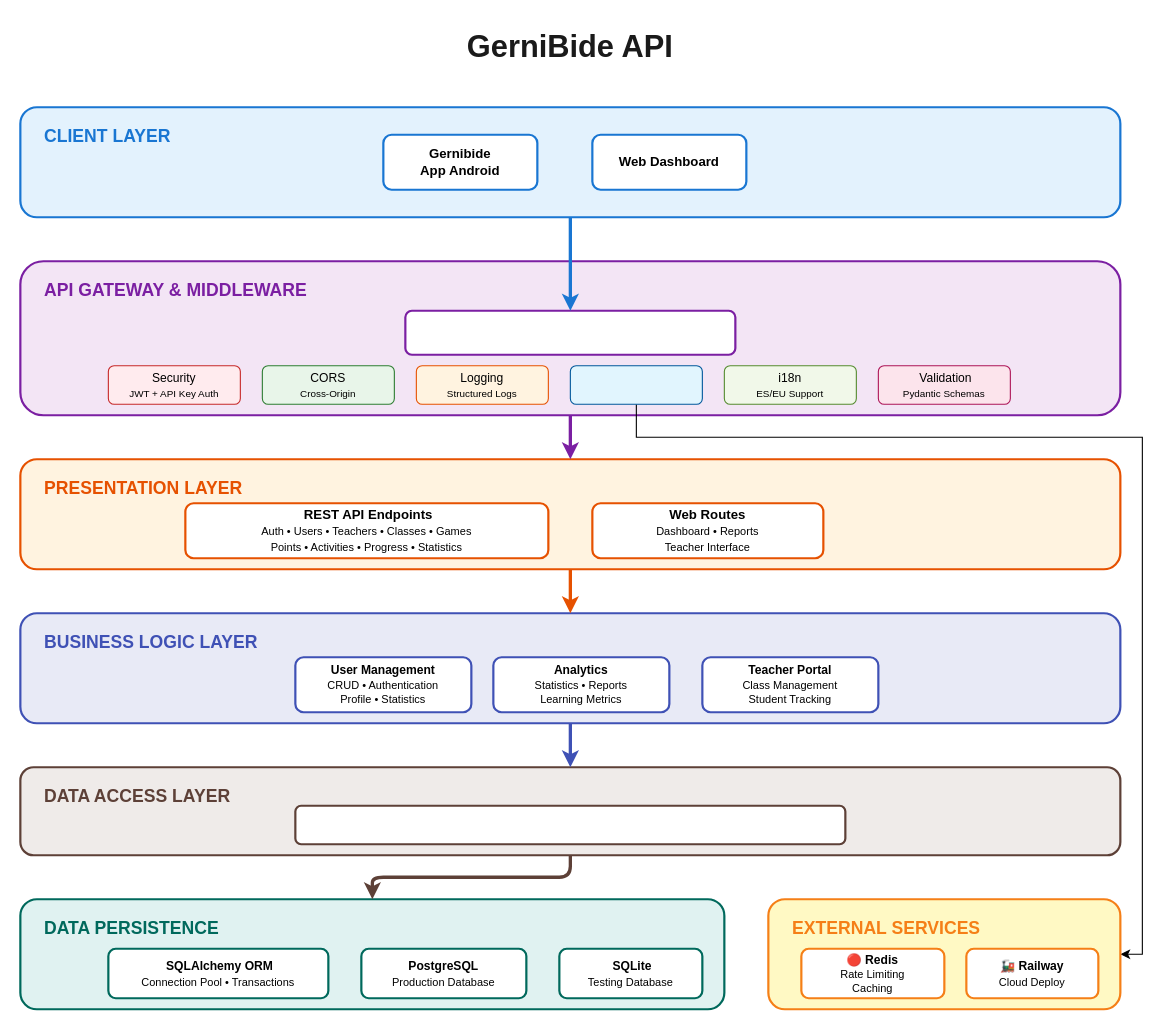
Image size: 1170x1029. Some labels were removed from this diagram. The box of each missing label's shape, as (x1, y1, x2, y2) in pixels:
GerniAPI: (404, 309, 736, 355)
Rate Limiter Redis-based: (569, 365, 702, 404)
Repository Pattern Data abstraction • ORM queries • Transaction management: (294, 804, 846, 845)
